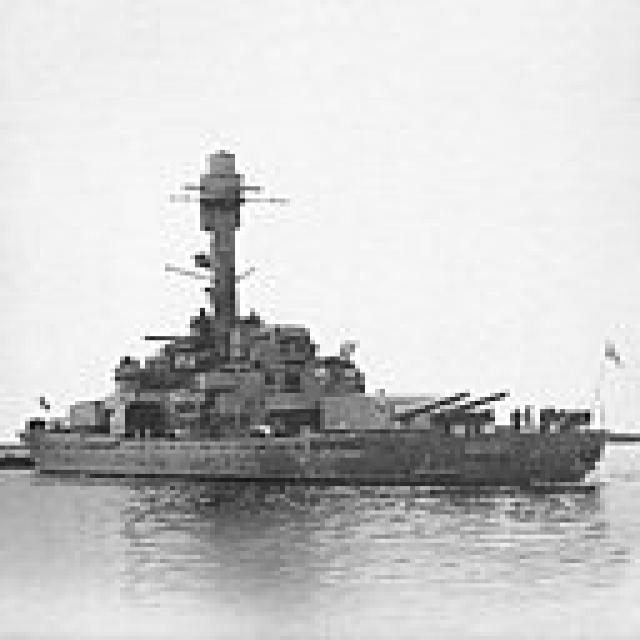Warship: (5, 142, 635, 486)
